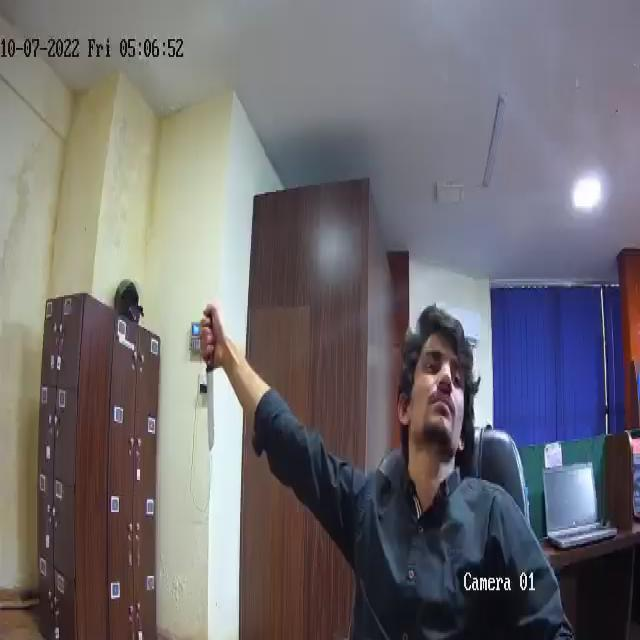Knife: (204, 313, 216, 452)
